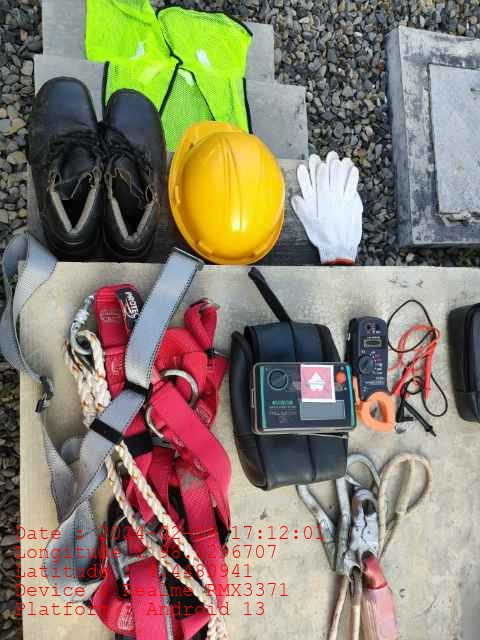HELM: (169, 121, 285, 264)
SARUNG_TANGAN: (291, 149, 364, 264)
SEPATU: (32, 77, 168, 261)
